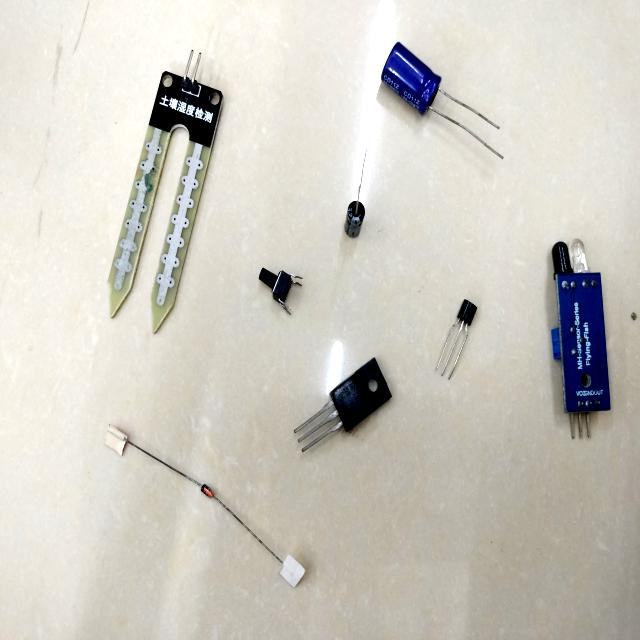capacitor: (378, 48, 446, 122), (344, 201, 365, 238)
